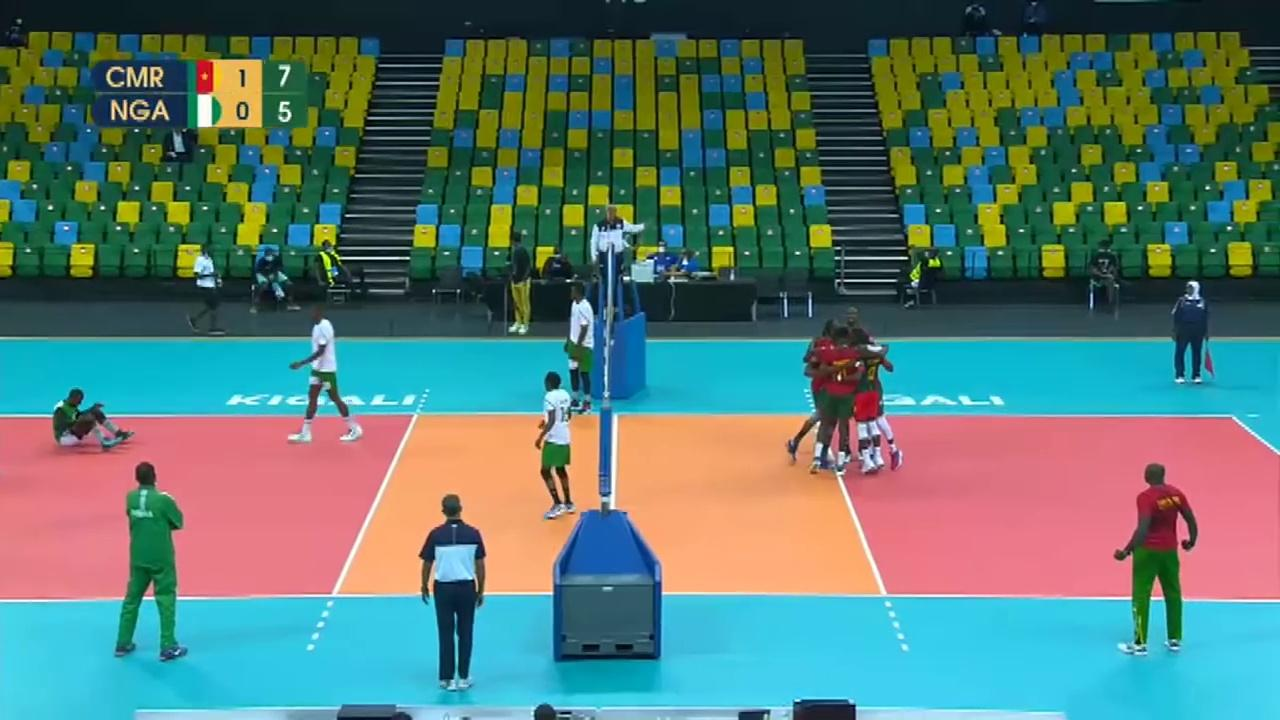player: (289, 306, 362, 439), (786, 320, 844, 471), (851, 334, 905, 474), (531, 371, 577, 515), (51, 385, 140, 451), (559, 284, 601, 417), (833, 305, 868, 459), (815, 329, 850, 475), (859, 334, 886, 468), (856, 481, 856, 481)
refree: (417, 490, 493, 696), (590, 200, 639, 307), (1169, 279, 1213, 383)
